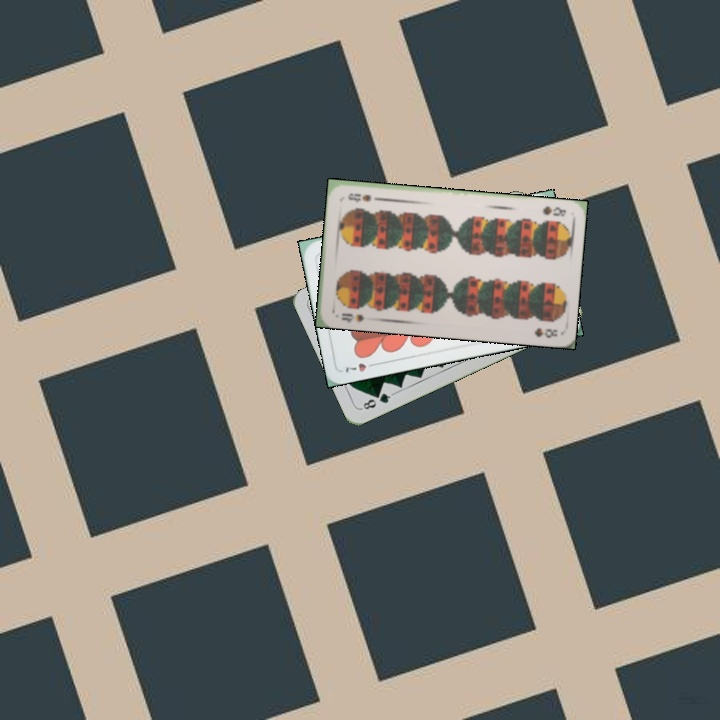G8: (357, 389, 396, 412)
H7: (341, 359, 380, 375)
S8: (539, 202, 568, 219), (337, 309, 367, 325)
